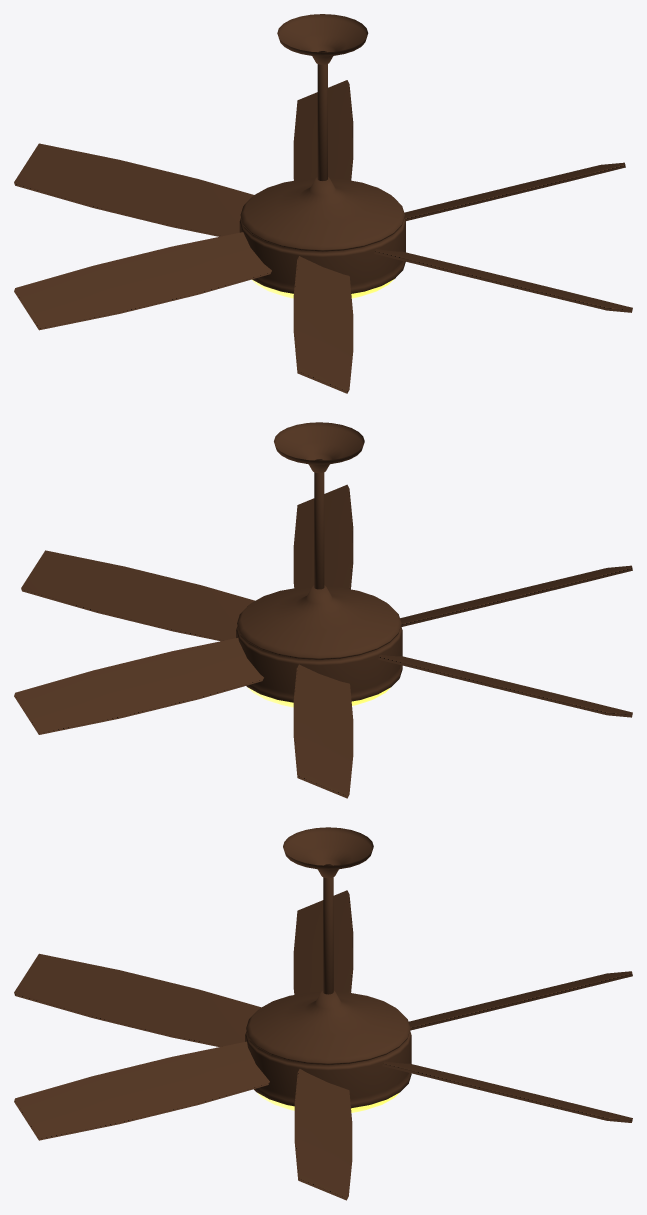
Rendered from Ceiling_Fan_Light.fbx.
3 renders of one model, top to bottom at view 1: azimuth 30°, elevation 25°; view 2: azimuth 150°, elevation 25°; view 3: azimuth 270°, elevation 25°, orthographic.
Parts seen in each view (by area): view 1: Ceiling_Fan_Light_LOD0; view 2: Ceiling_Fan_Light_LOD0; view 3: Ceiling_Fan_Light_LOD0.
Boxes of the visible parts, left/top/right/bottom form: Ceiling_Fan_Light_LOD0: left=14, top=14, right=632, bottom=393; Ceiling_Fan_Light_LOD0: left=14, top=422, right=632, bottom=798; Ceiling_Fan_Light_LOD0: left=14, top=827, right=632, bottom=1200.
Size of what is drawn, in the model's own units: 197 by 79.16 by 180.
